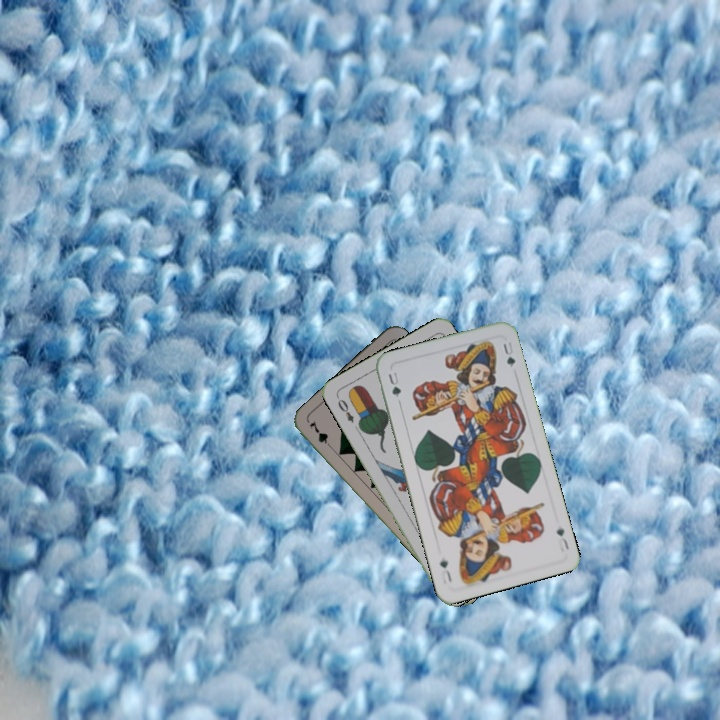EO: (333, 393, 356, 425)
G7: (305, 416, 336, 452)
GU: (384, 368, 404, 400), (552, 524, 572, 552)
